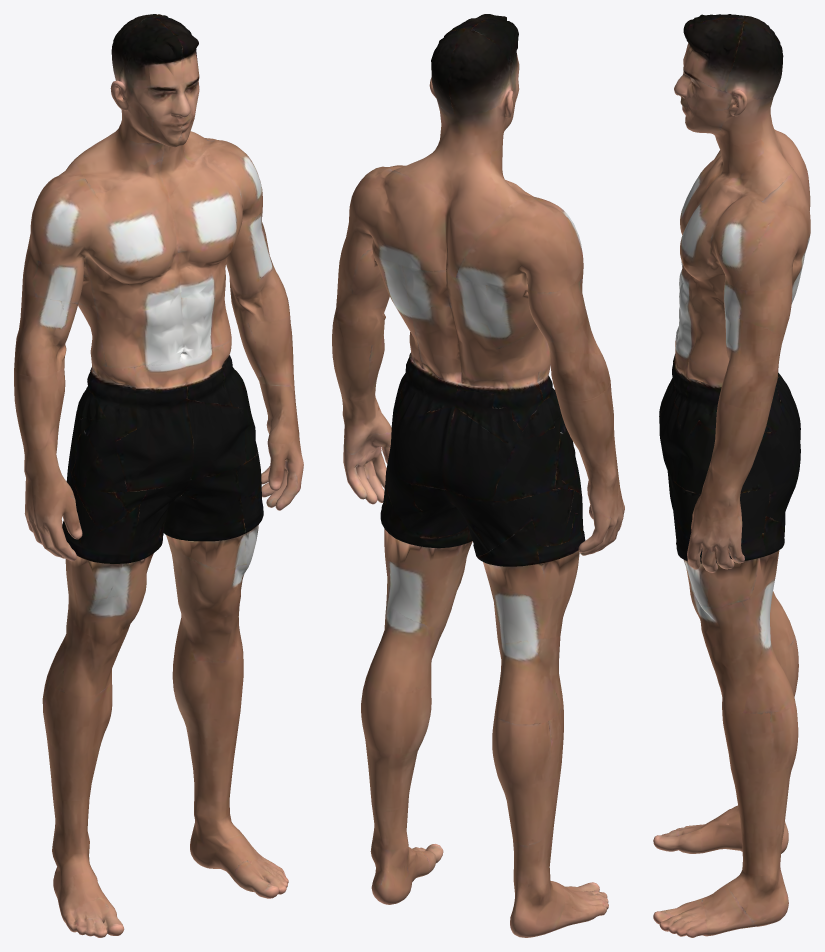
Rendered from avatar-male.glb.
The picture shows the model from 3 angles, left to right: view 1: azimuth 30°, elevation 25°; view 2: azimuth 150°, elevation 25°; view 3: azimuth 270°, elevation 25°; orthographic projection.
Visible parts, largest first — view 1: Mesh_0.001; view 2: Mesh_0.001; view 3: Mesh_0.001.
Boxes of the visible parts, left/top/right/bottom form: Mesh_0.001: left=14, top=14, right=303, bottom=937; Mesh_0.001: left=332, top=14, right=624, bottom=937; Mesh_0.001: left=653, top=14, right=810, bottom=937.
Bounding box in the file's own units: 0.5835 × 1.8 × 0.2952.
1 material, 1 textured.
